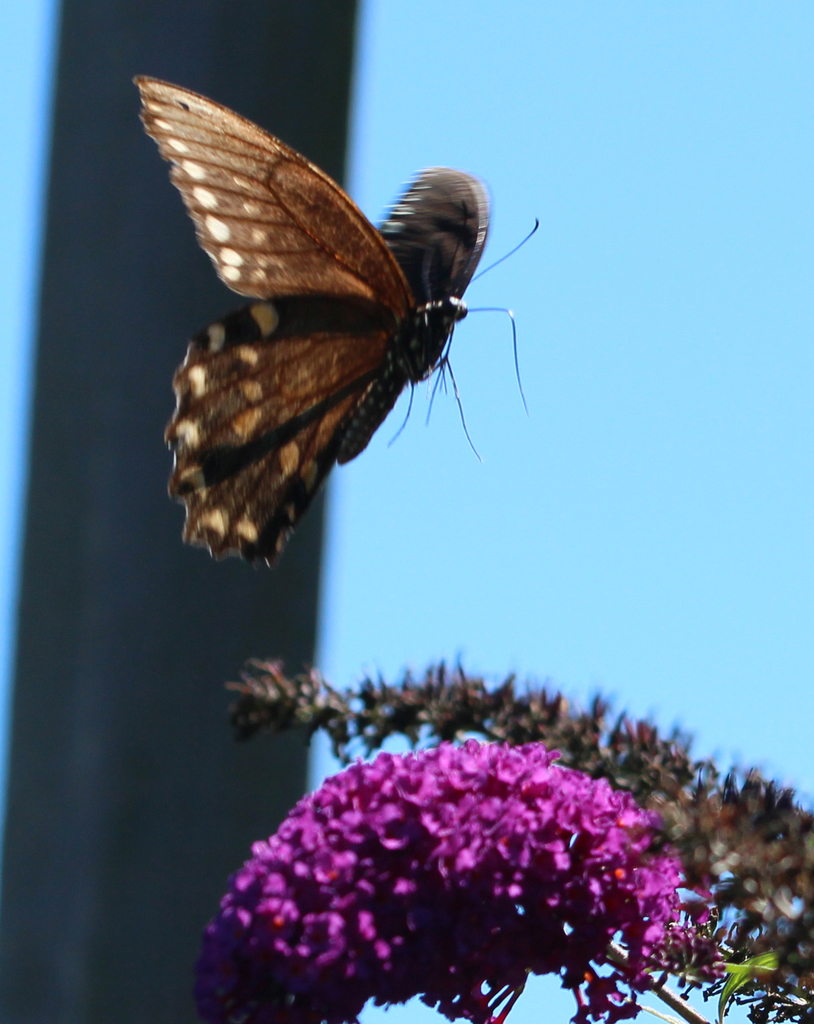Butterfly: (126, 52, 484, 584)
